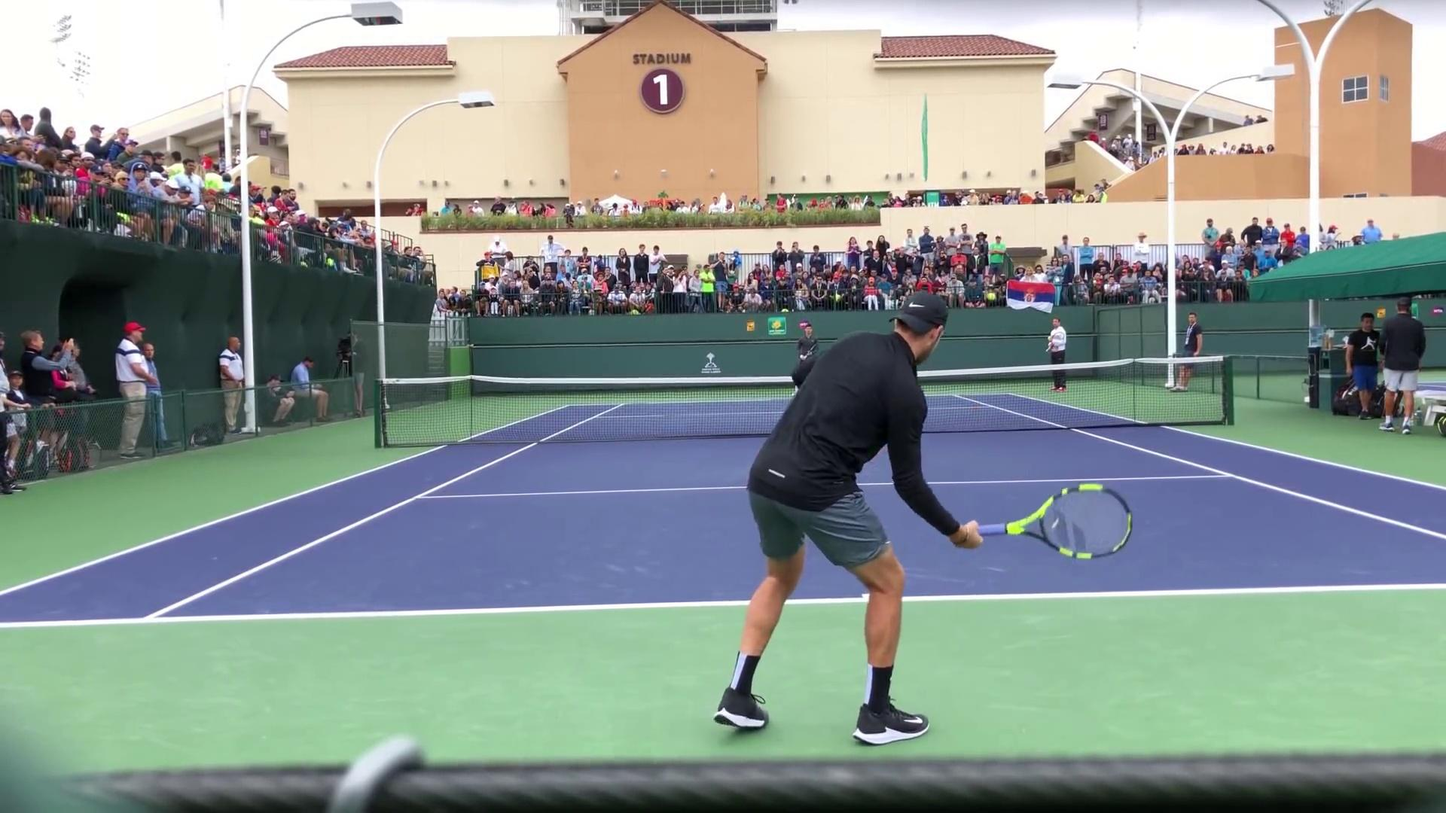ball: (540, 437, 548, 445)
